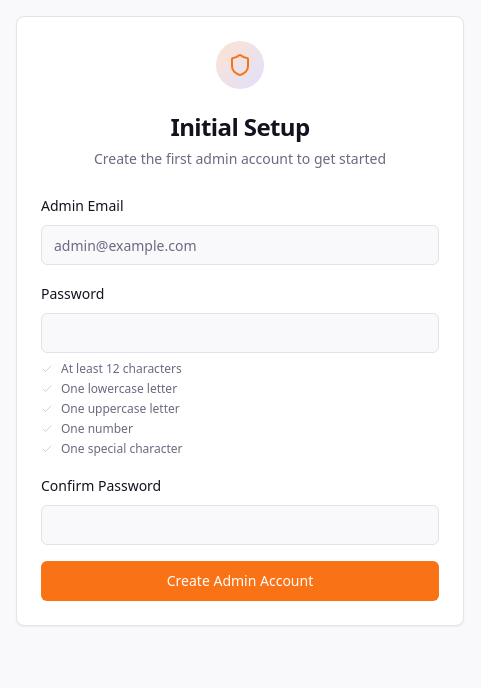
it: SetupPage › shows validation errors for empty form submit
Click the button "Create Admin Account" at (240, 581), box [41,561,439,601]
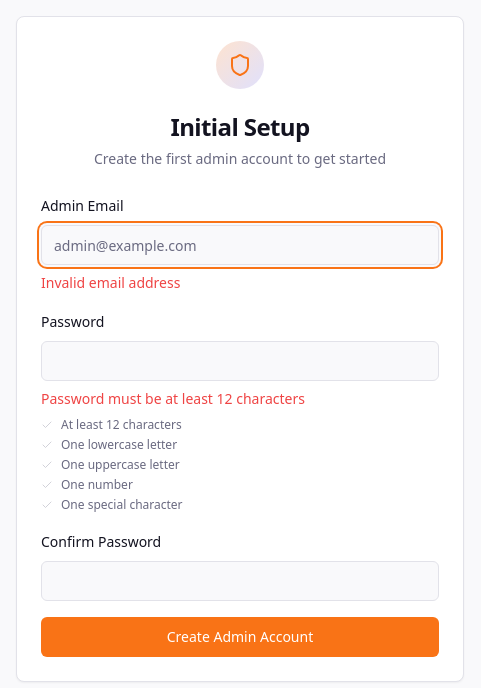
Expected: the text "Invalid email address" is shown, [41,273,180,292]
